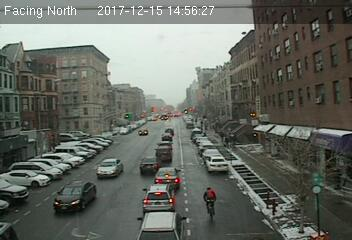bicycle: (203, 186, 217, 223)
car: (135, 212, 184, 240), (52, 181, 96, 211), (142, 185, 176, 212), (96, 157, 123, 177), (153, 166, 181, 185), (205, 156, 229, 172), (139, 156, 159, 173), (155, 147, 173, 162)
